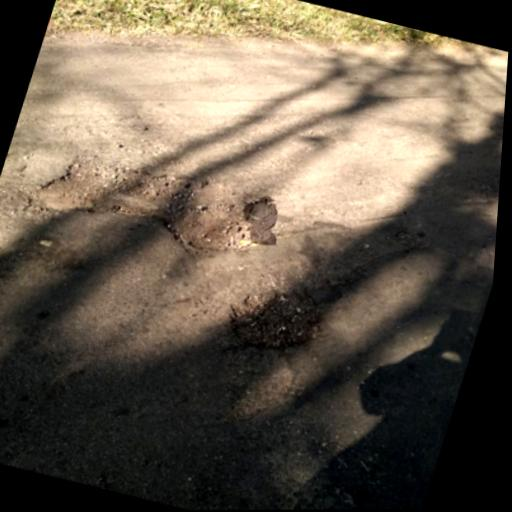pothole: (13, 133, 281, 274), (216, 272, 335, 362)
